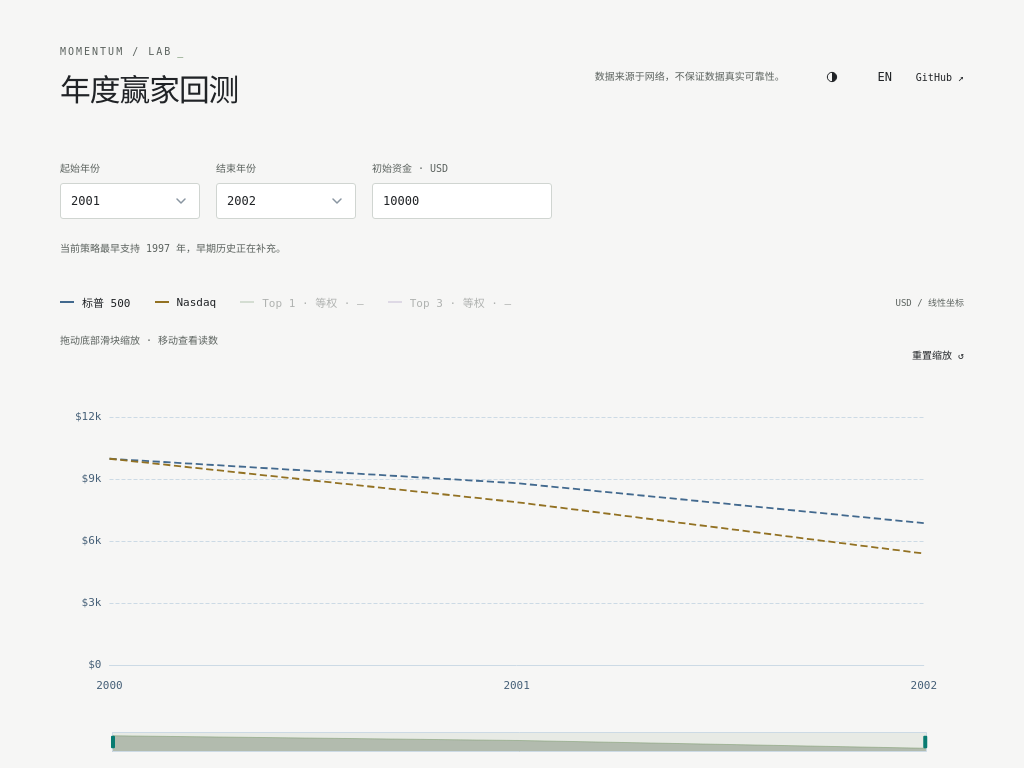
switching language translates header controls and details and preserves config
What coordinates should you click on to do the following:
click the button "EN"
I would click on:
 (885, 77)
Its box is [863,55,907,99].
(page scrolled)
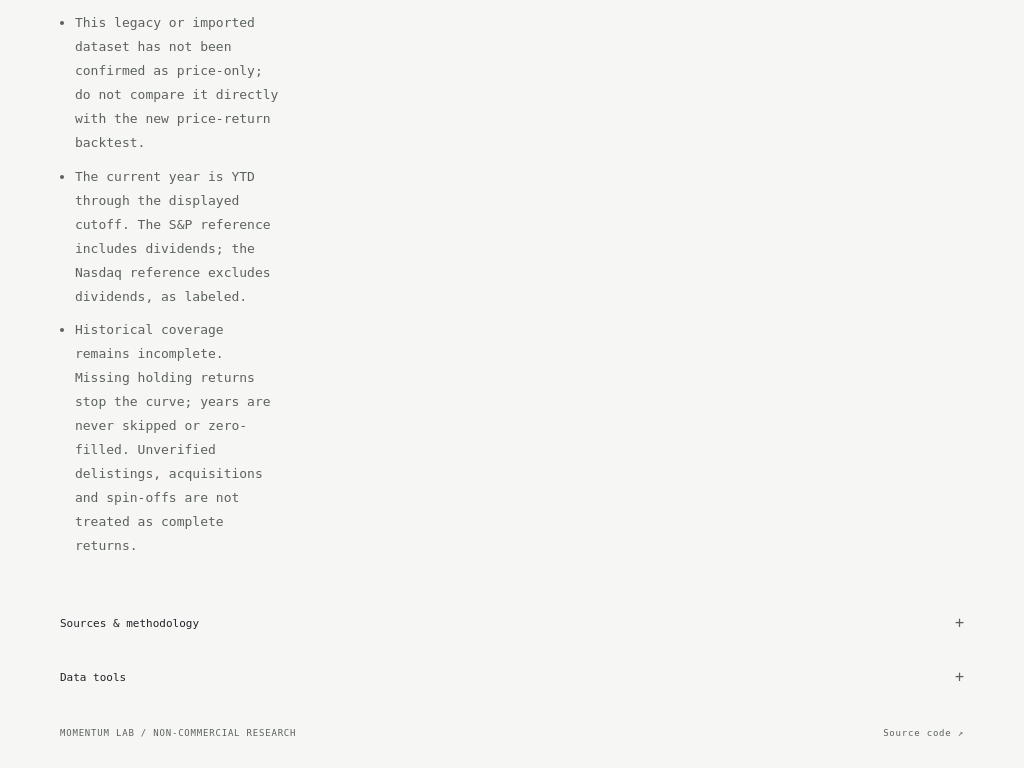
Result: the heading "Sources & methodology +" is shown at [60,614,964,632]
